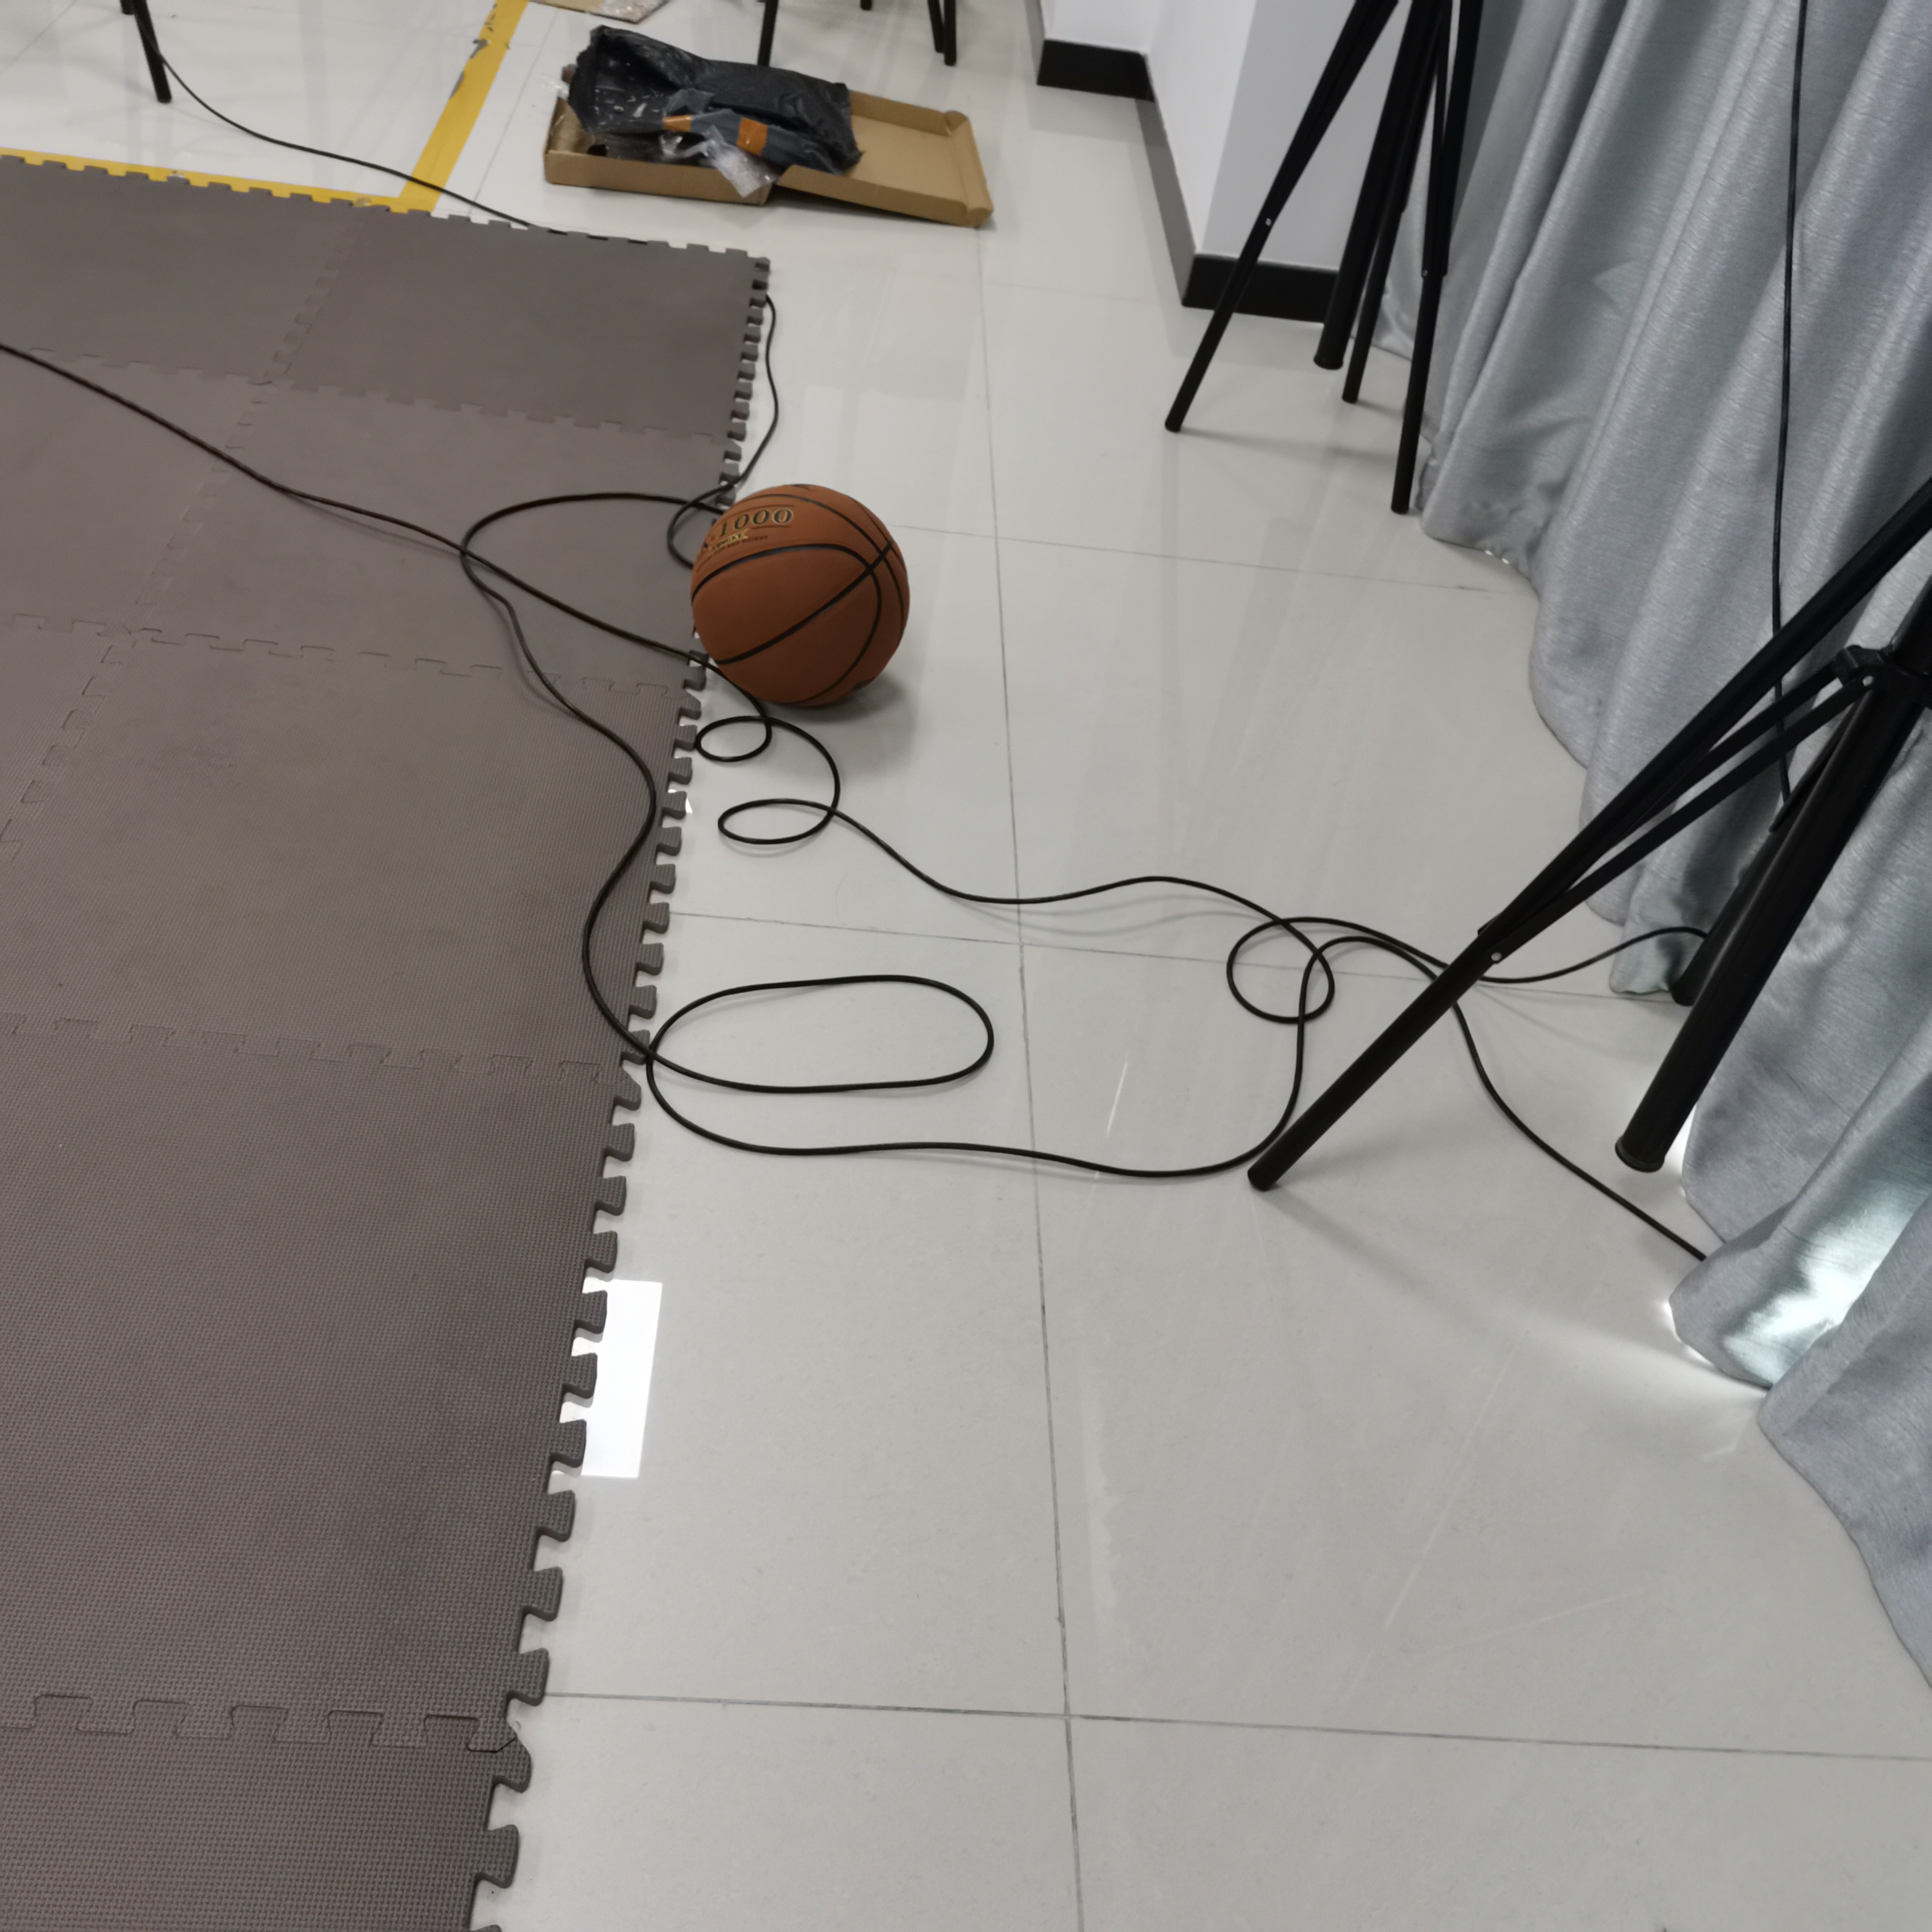basketball: (690, 485, 913, 713)
